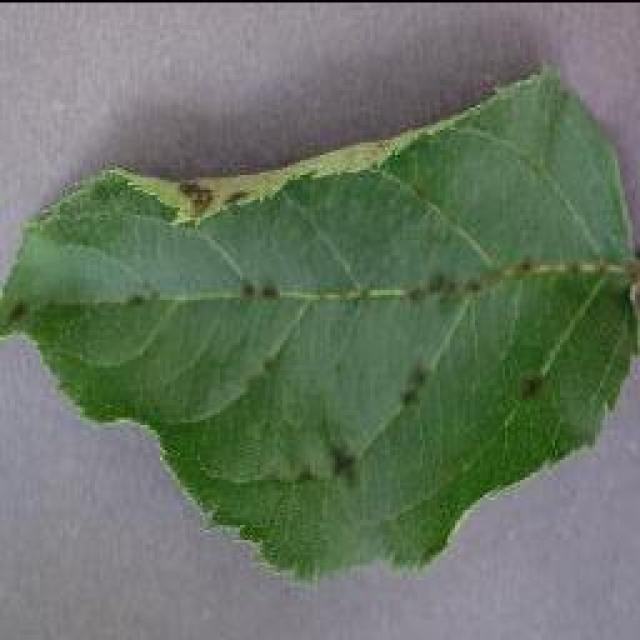apple scab disease: (0, 58, 638, 582)
